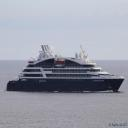cruises: (6, 43, 126, 96)
